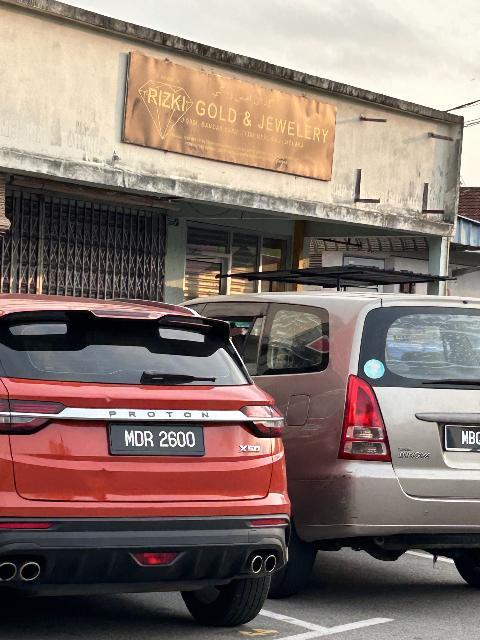License_Plate: (107, 424, 207, 459)
MDR2600: (107, 424, 207, 459)
car: (1, 271, 289, 636), (167, 278, 480, 582)
